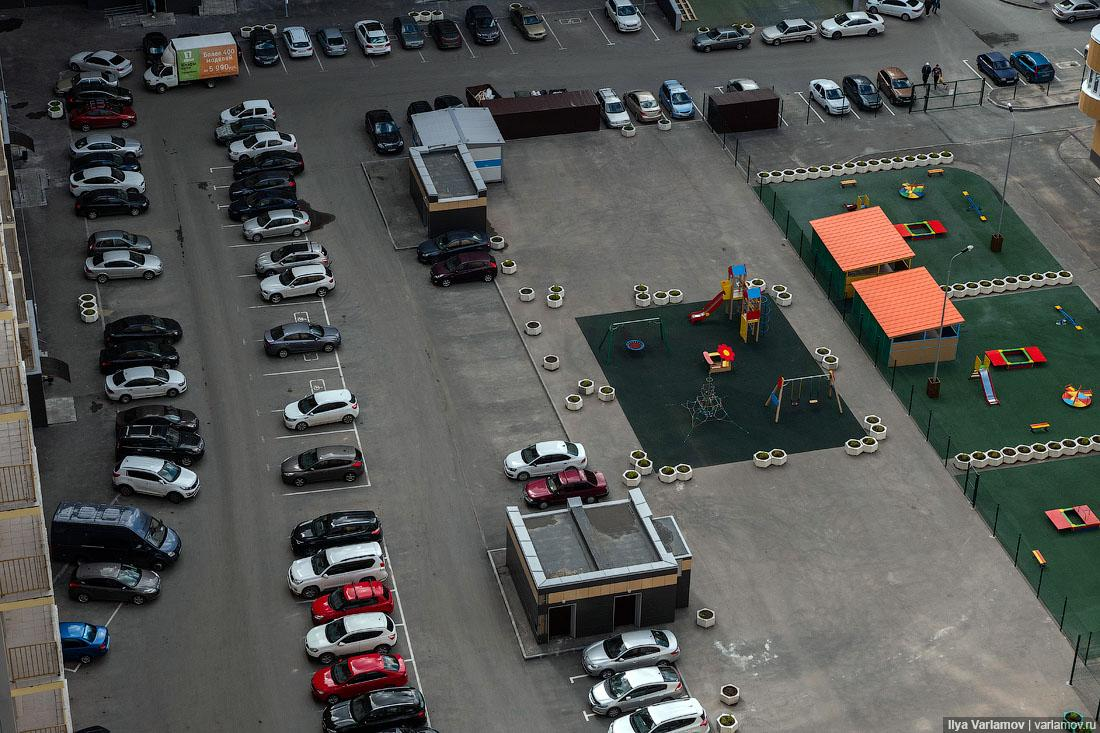empty: (45, 505, 189, 575), (146, 31, 237, 93), (287, 546, 393, 589), (585, 632, 688, 675), (272, 446, 375, 487), (709, 73, 785, 128), (316, 654, 413, 696), (110, 455, 201, 499), (595, 668, 688, 711), (285, 512, 393, 549), (307, 615, 401, 656), (335, 692, 436, 730), (281, 386, 366, 430), (525, 469, 608, 514), (256, 320, 349, 360), (499, 441, 587, 479), (312, 581, 397, 620), (253, 268, 344, 303), (100, 368, 189, 402), (70, 176, 154, 211), (426, 253, 510, 287), (110, 428, 207, 457), (78, 254, 168, 285), (612, 706, 714, 733), (240, 210, 323, 242), (103, 317, 189, 347), (71, 190, 154, 220), (232, 146, 311, 175), (103, 341, 184, 369), (63, 168, 147, 193), (234, 191, 314, 217), (120, 404, 196, 431), (255, 244, 333, 270), (64, 85, 137, 112), (232, 133, 304, 160), (70, 104, 139, 132), (230, 173, 306, 198), (69, 138, 142, 164), (222, 102, 283, 132), (805, 79, 854, 116), (366, 114, 409, 156), (876, 66, 921, 106), (68, 49, 134, 76), (602, 2, 651, 37), (462, 8, 505, 47), (848, 76, 892, 114), (1012, 50, 1059, 85), (245, 30, 289, 67), (661, 83, 702, 122), (84, 229, 160, 250), (976, 52, 1020, 88), (762, 21, 820, 48), (355, 22, 398, 58), (276, 26, 320, 60), (512, 8, 554, 43), (696, 28, 752, 54), (823, 12, 877, 38), (395, 15, 431, 53), (597, 94, 635, 130), (878, 0, 937, 23), (314, 25, 354, 57), (429, 19, 466, 52), (655, 0, 692, 31), (628, 92, 664, 122), (1052, 2, 1099, 24), (416, 91, 465, 112), (463, 80, 499, 104), (1008, 0, 1050, 10), (0, 13, 20, 33)
occupied: (440, 307, 496, 342), (272, 372, 330, 403), (439, 288, 495, 319), (460, 333, 508, 364), (493, 408, 548, 434), (90, 223, 158, 244), (111, 308, 179, 328), (305, 492, 363, 515), (776, 92, 812, 128), (480, 378, 527, 405), (300, 431, 355, 453), (92, 217, 147, 236), (278, 301, 329, 320), (557, 16, 592, 38)
